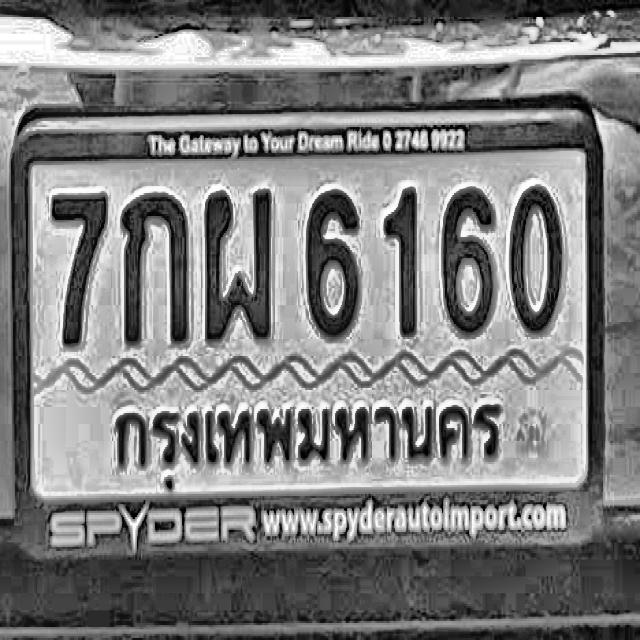license-plate: (11, 98, 608, 568)
